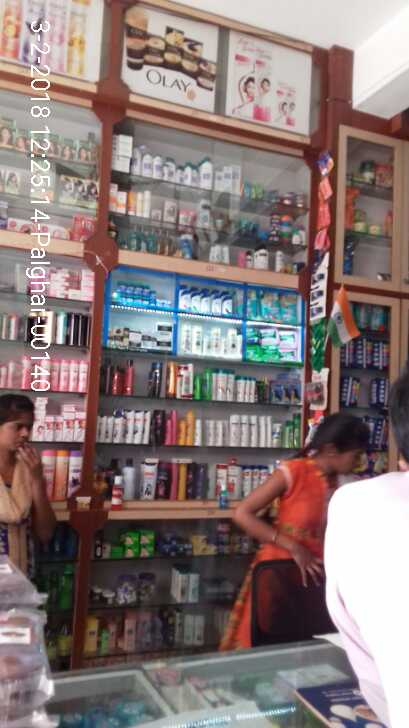vicks: (112, 280, 173, 309)
